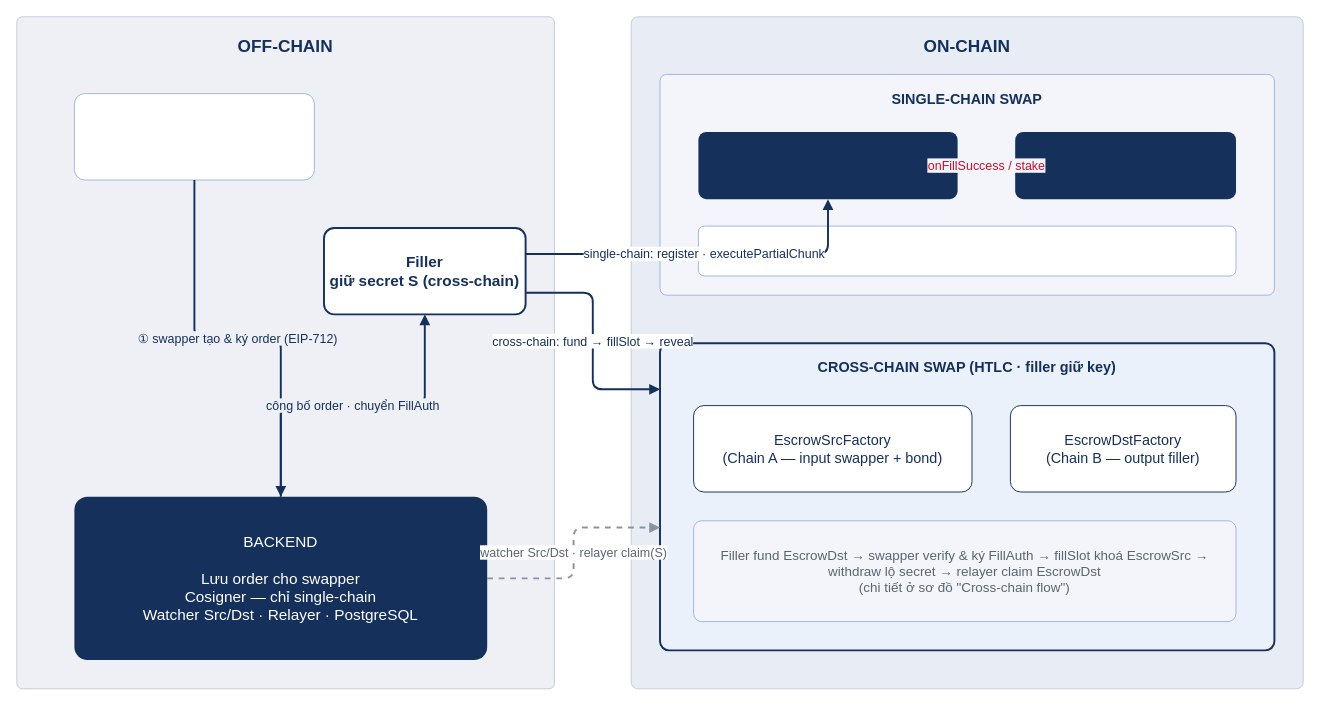
This 1320x706 diagram has some shape labels left out. The shapes that lost their labels are listed below. From the top down, each one's centre as x and y in pixels, then its label:
(193,136): Frontend Tạo & ký lệnh · Theo dõi
(827,165): PartialFillReactor
(1125,165): FillAuction
(966,250): FallbackExecutor — route phần dư gần deadline
